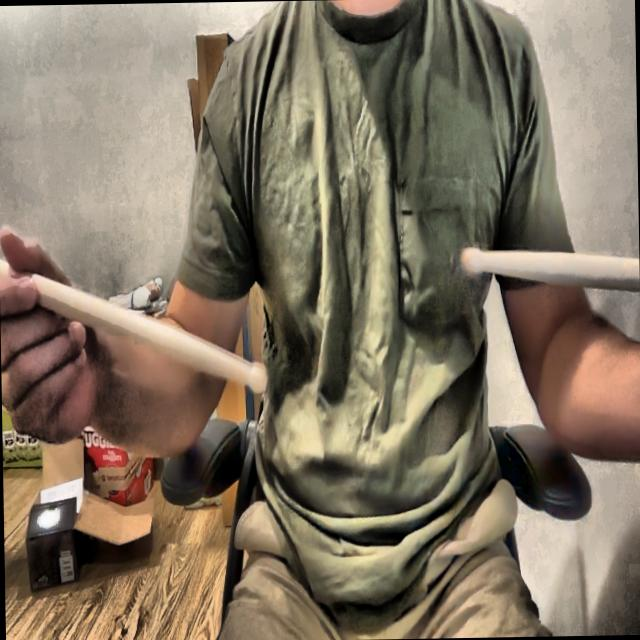Drumstick-Heads: (245, 356, 270, 398), (460, 242, 484, 278)
